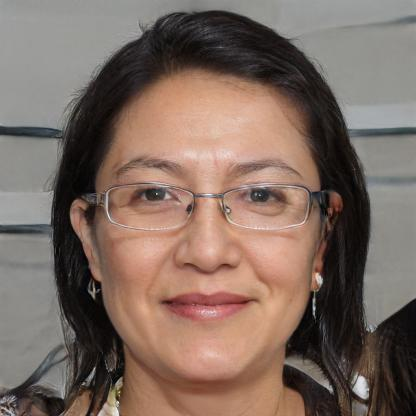glasses: (99, 176, 316, 235)
